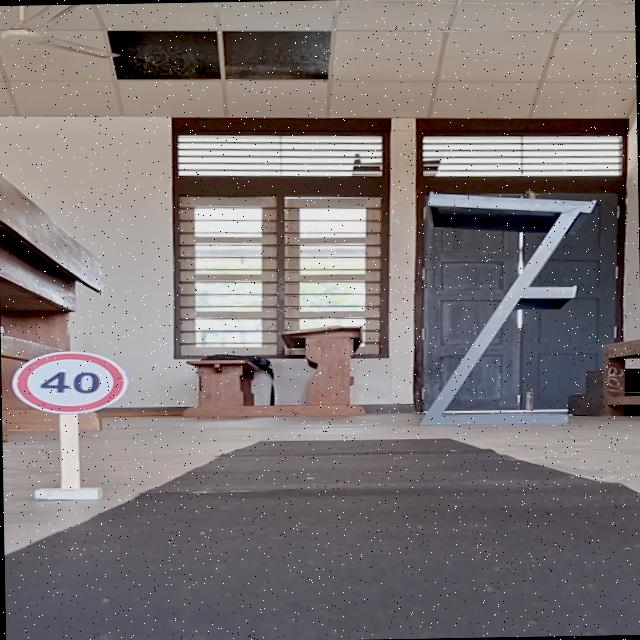Speed40: (9, 348, 128, 416)
